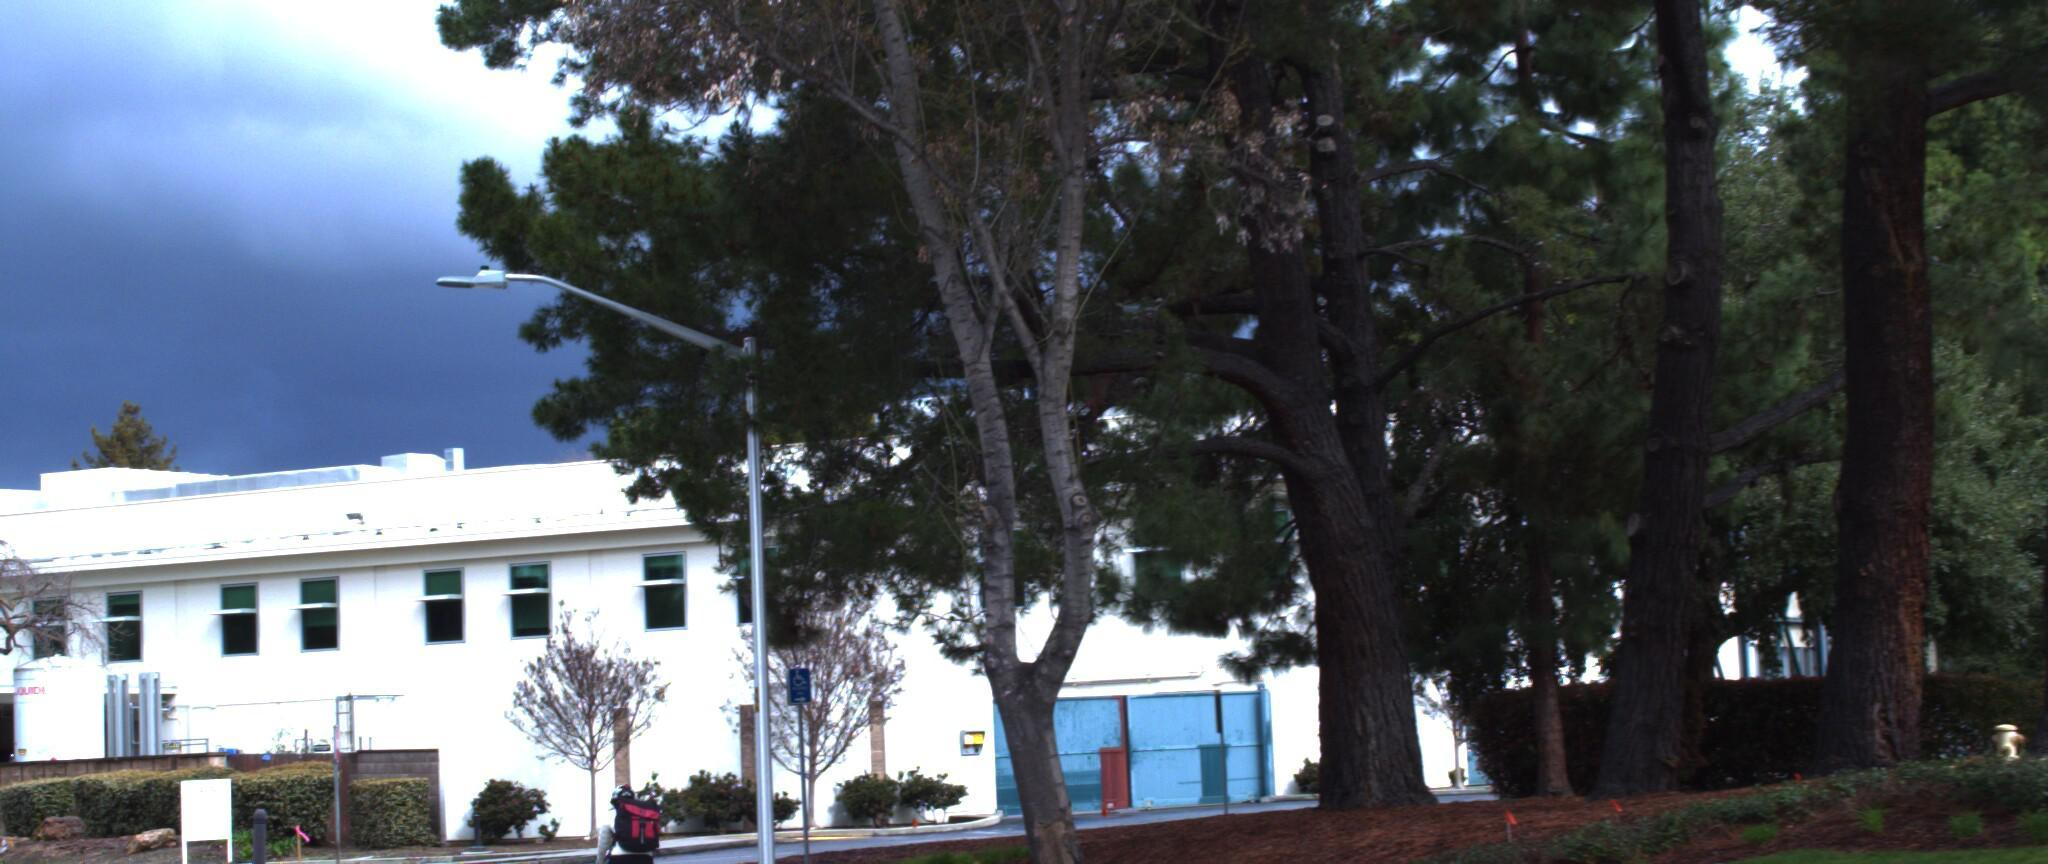bicycle: (555, 777, 699, 864)
